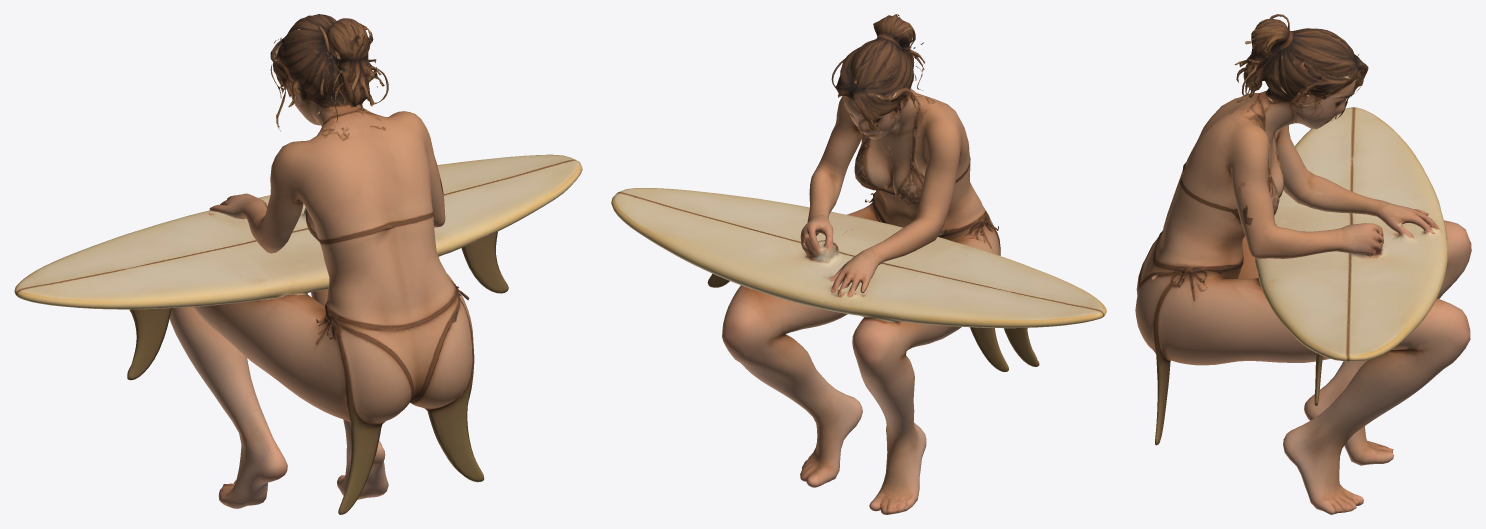
File: female_surfer_crouch.glb
3 views of the same model, side by side, from view 1: azimuth 30°, elevation 25°; view 2: azimuth 150°, elevation 25°; view 3: azimuth 270°, elevation 25° (orthographic). The views are drawn at different scales.
Parts seen in each view (by area): view 1: tripo_node_ae93cf6a-02b8-42aa-8161-305a43c11591; view 2: tripo_node_ae93cf6a-02b8-42aa-8161-305a43c11591; view 3: tripo_node_ae93cf6a-02b8-42aa-8161-305a43c11591.
Boxes of the visible parts, x1=… form: tripo_node_ae93cf6a-02b8-42aa-8161-305a43c11591: x1=14, y1=14, x2=582, y2=514; tripo_node_ae93cf6a-02b8-42aa-8161-305a43c11591: x1=611, y1=14, x2=1106, y2=514; tripo_node_ae93cf6a-02b8-42aa-8161-305a43c11591: x1=1135, y1=14, x2=1471, y2=514.
Size of the model in its own units: 1.3 by 1.14 by 0.7414.
1 material, 1 textured.
